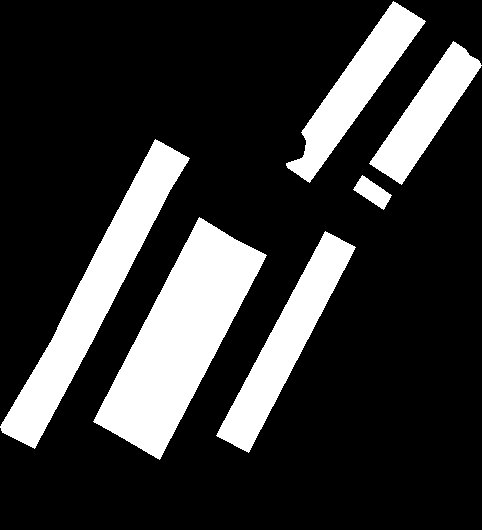parkingspot: (0, 139, 189, 448), (125, 237, 266, 459), (93, 217, 233, 440), (216, 231, 355, 452), (286, 1, 425, 182), (369, 41, 481, 184), (353, 175, 391, 209)
